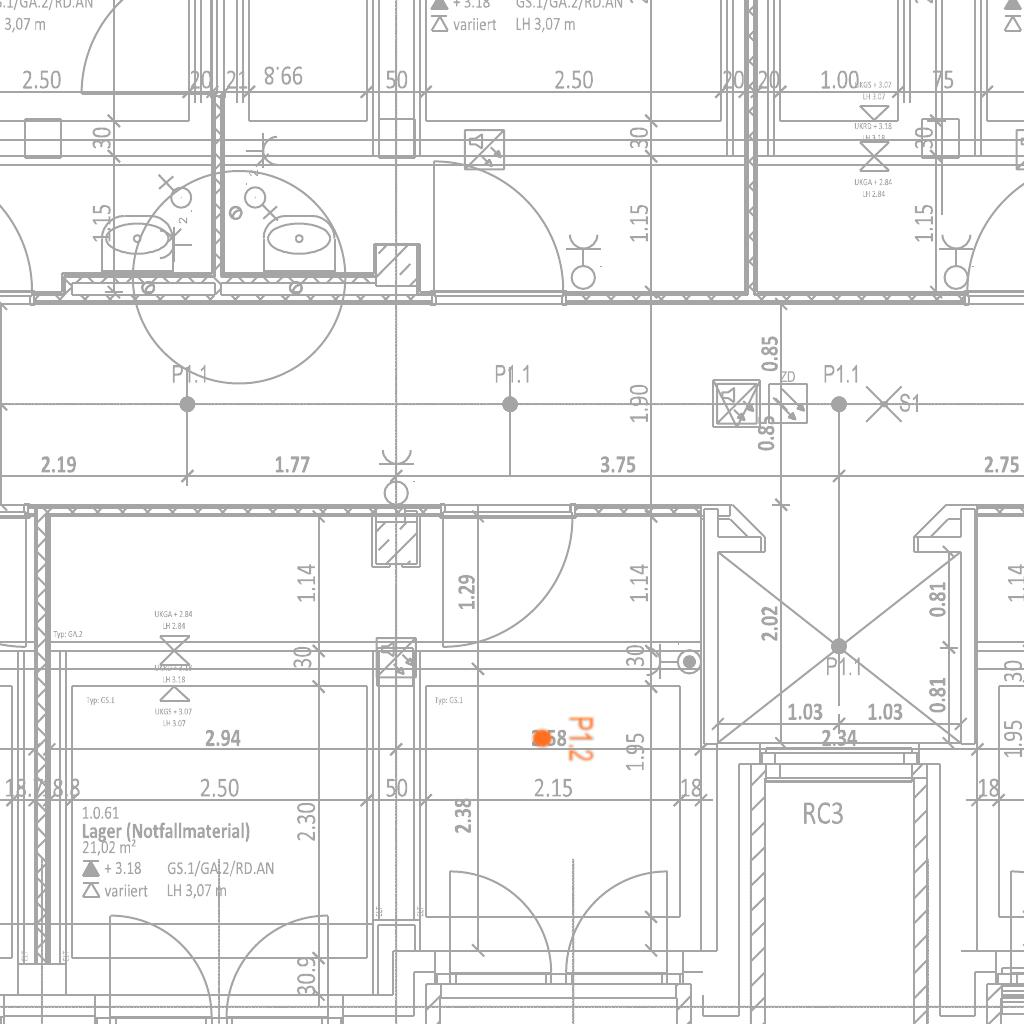Downlight_LED_Einbauleuchten_Flur: (531, 716, 595, 762)
